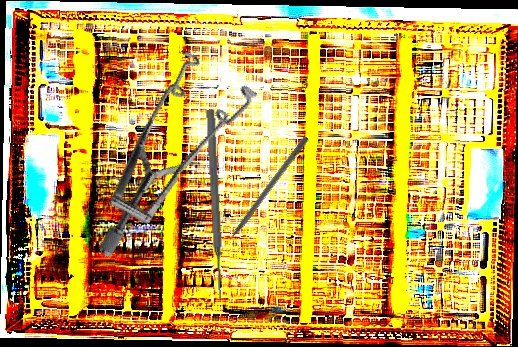Pusher: (215, 134, 310, 256), (204, 109, 226, 299)
Speculum: (39, 29, 294, 261)
